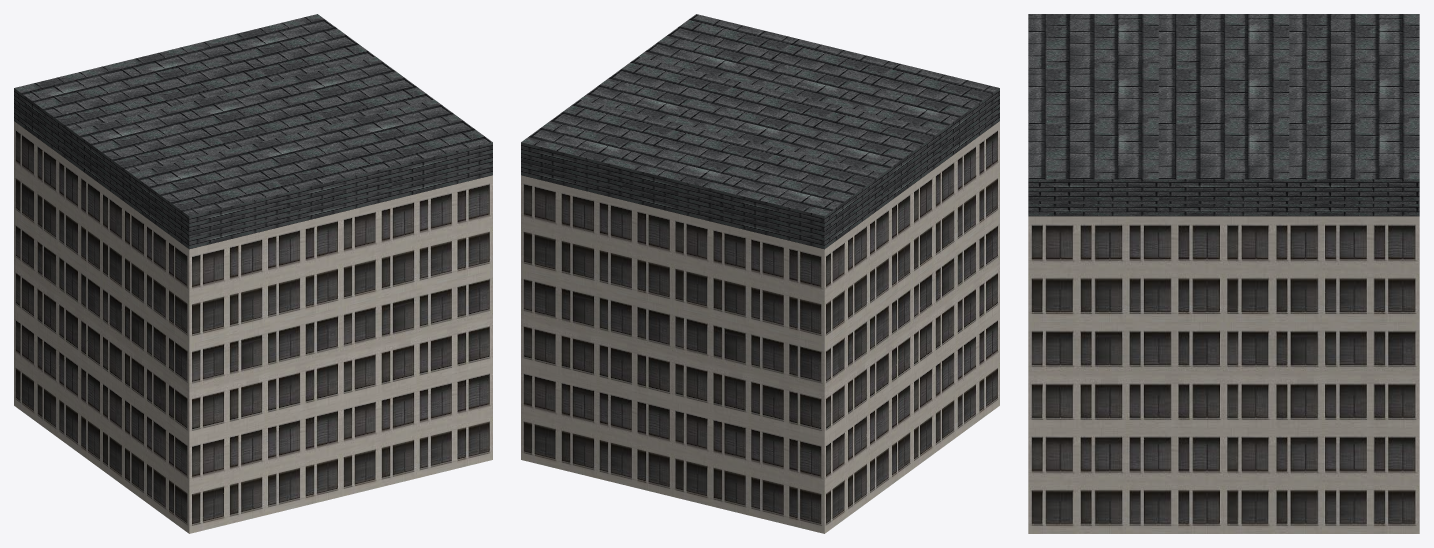
Rendered from 6_Storey_Building.FBX.
3 renders of one model, left to right at view 1: azimuth 30°, elevation 25°; view 2: azimuth 150°, elevation 25°; view 3: azimuth 270°, elevation 25°, orthographic. The views are drawn at different scales.
Visible parts, largest first — view 1: Box001; view 2: Box001; view 3: Box001.
Boxes of the visible parts, x1,y1,x2,y2 form: Box001: (14, 14, 492, 533); Box001: (521, 14, 999, 533); Box001: (1028, 14, 1419, 533).
Size of the model in its own units: 35 by 35 by 35.
2 materials, 2 textured.
